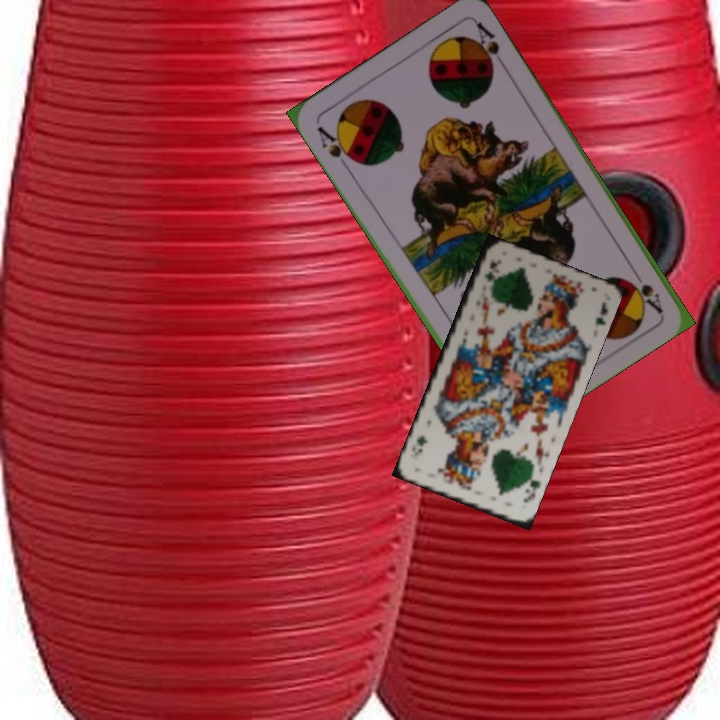GK: (519, 470, 543, 505), (480, 255, 502, 285)
SA: (626, 262, 665, 316), (313, 122, 359, 166)
